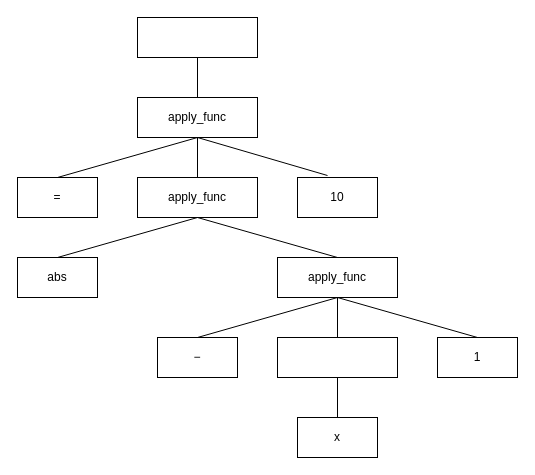
This 535x475 diagram has some shape labels left out. Here are the shapes that lost their labels. From the top down, the centre of each, then its label:
pixel 197 37: assert
pixel 337 357: unknown_constant
